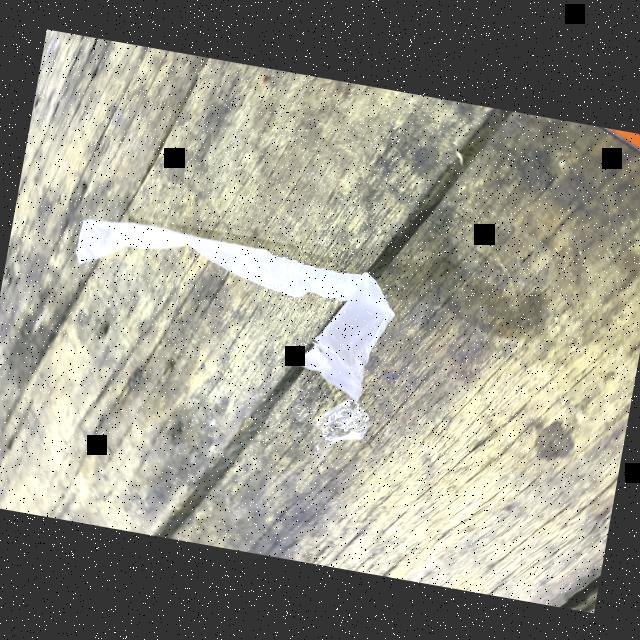scrap_paper: (51, 192, 397, 394)
scrap_plastic: (314, 385, 375, 450)
